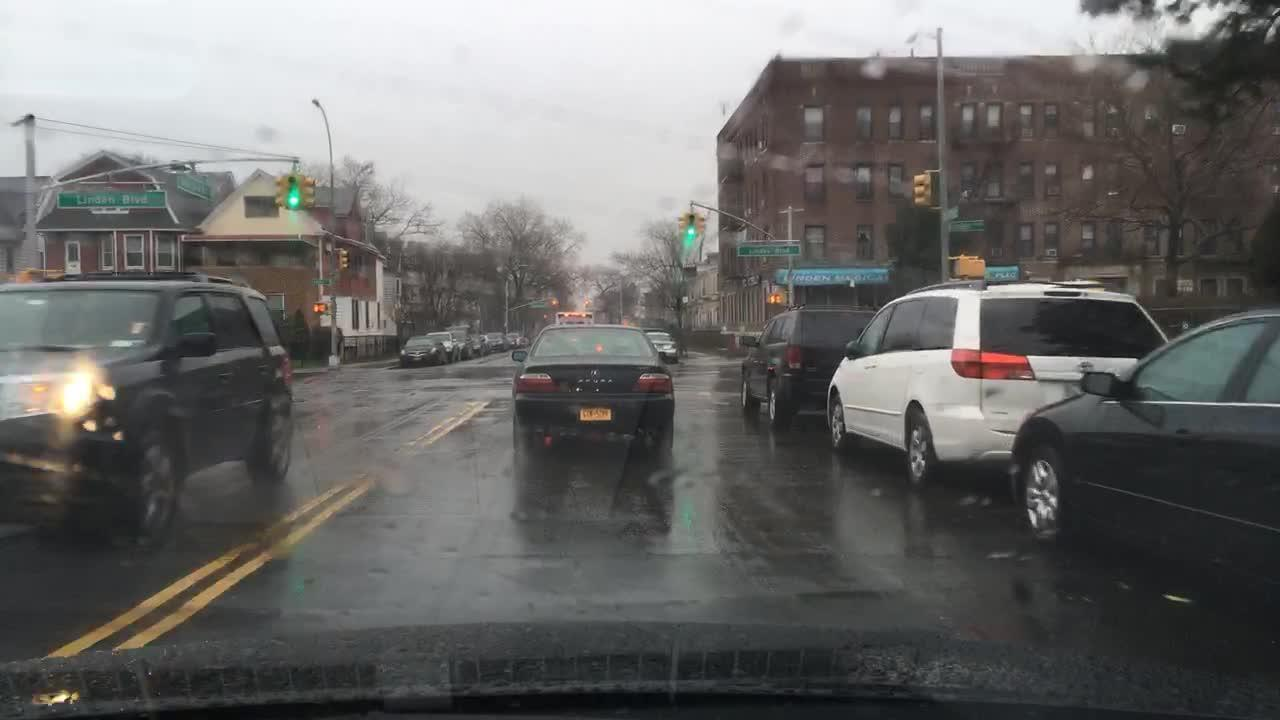acura: (584, 362, 610, 383)
